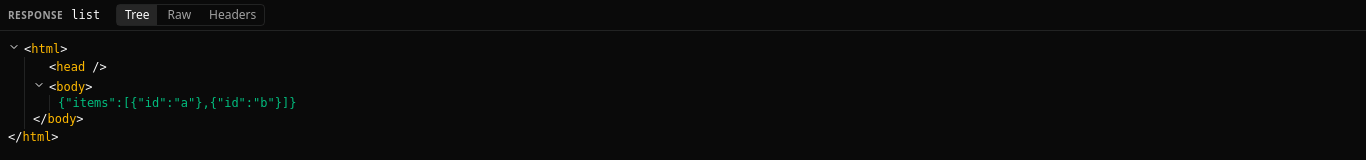
Test: ResponseColumn › Override pill shows when format differs from detected content-type
Click the button "Headers" at (233, 15), box [201,5,264,25]
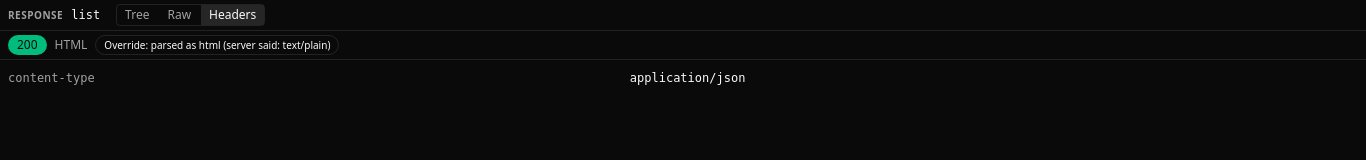
Result: the text "Override: parsed as html (server said: text/plain)" is shown at [95,35,339,55]
